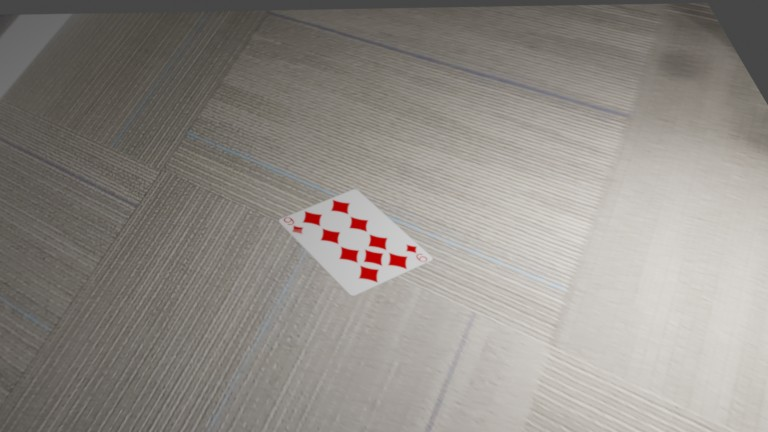9_of_diamonds: (398, 241, 432, 265), (279, 215, 310, 238)
